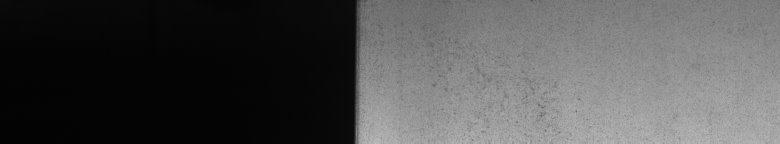ib: (432, 64, 560, 132)
